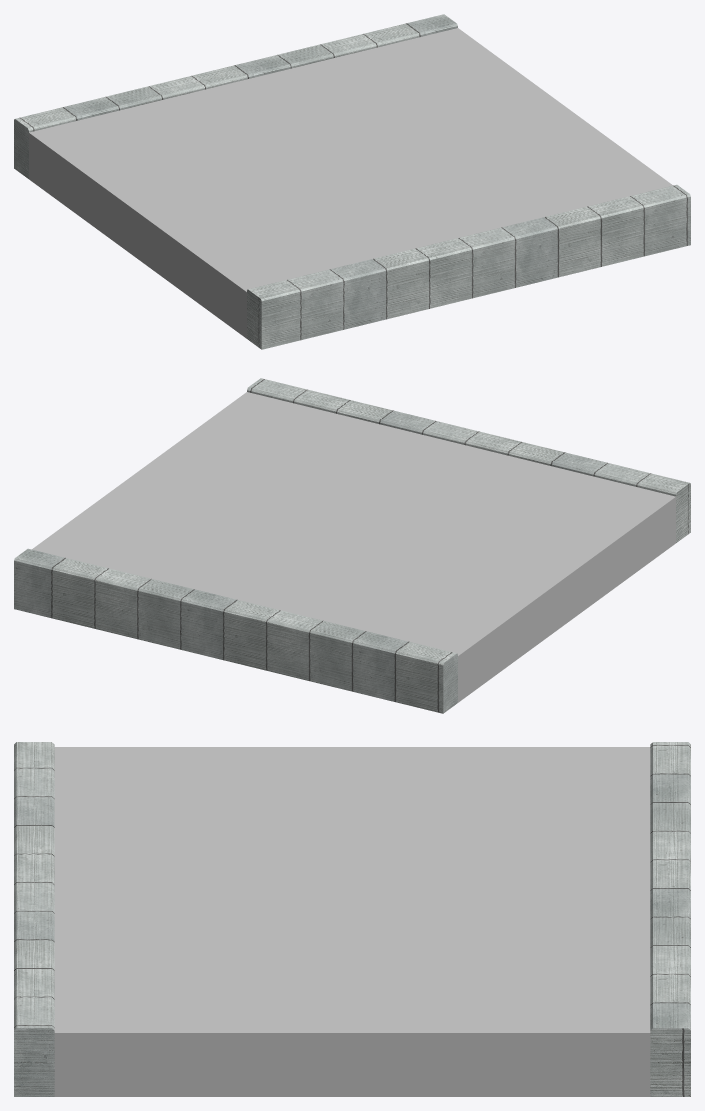
The model's file is AlleywayFloorA 1.fbx.
3 renders of one model, top to bottom at view 1: azimuth 30°, elevation 25°; view 2: azimuth 150°, elevation 25°; view 3: azimuth 270°, elevation 25°, orthographic. The views are drawn at different scales.
Parts seen in each view (by area): view 1: AlleywayFloorA; view 2: AlleywayFloorA; view 3: AlleywayFloorA.
Part boxes in pixels (bbox=[...]): AlleywayFloorA: bbox=[14, 14, 690, 349]; AlleywayFloorA: bbox=[14, 378, 690, 713]; AlleywayFloorA: bbox=[14, 742, 690, 1096].
Bounding box in the file's own units: 2500 × 280 × 2500.
